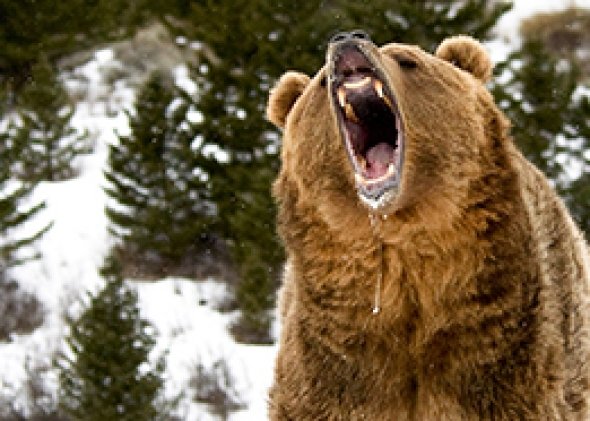bear: (253, 25, 526, 245)
